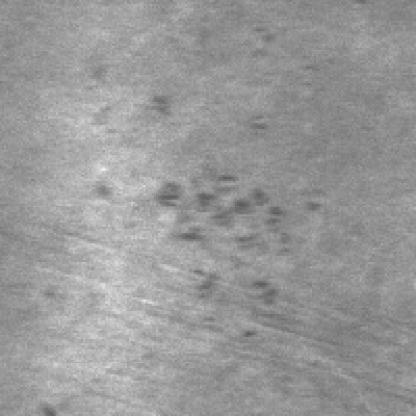rolled-in_scale: (146, 171, 291, 343)
